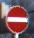No entry: (6, 5, 29, 33)
